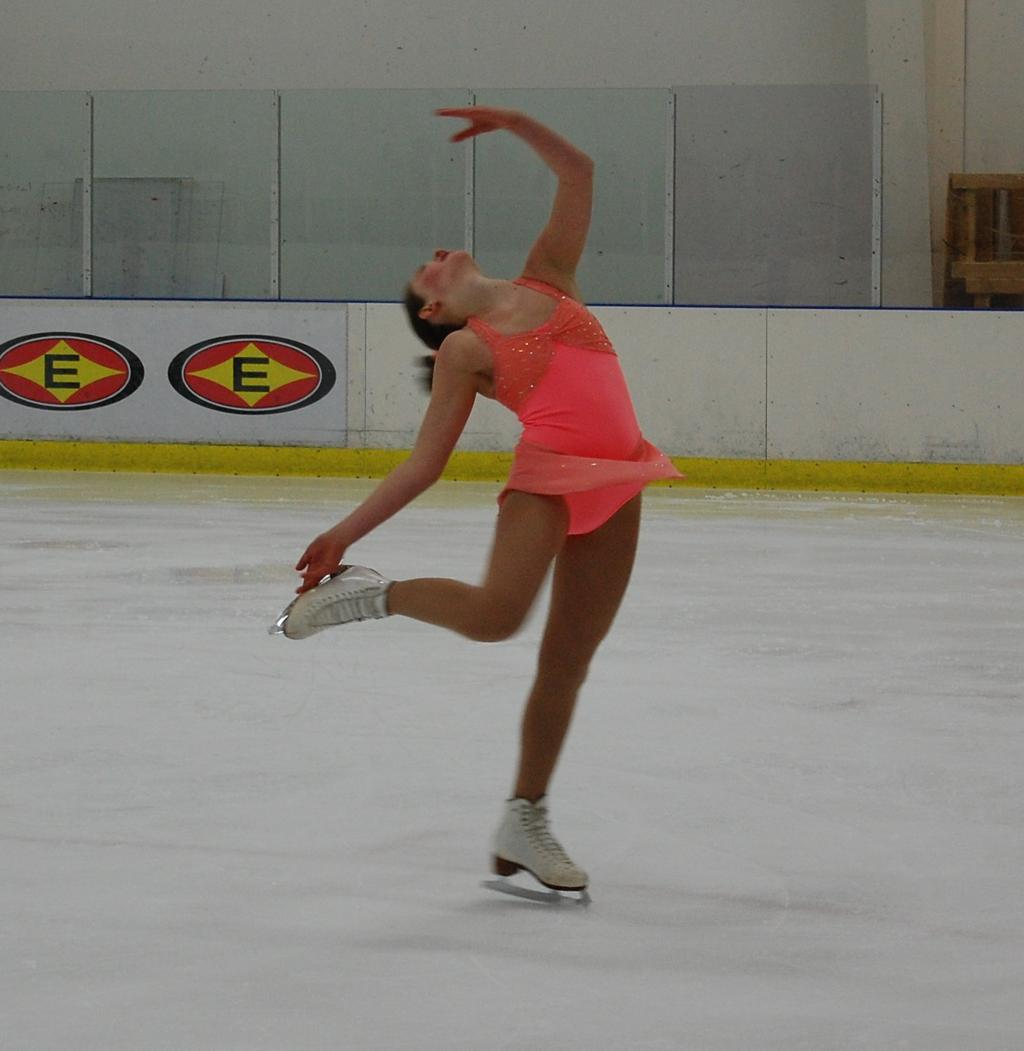face: (412, 246, 472, 314)
